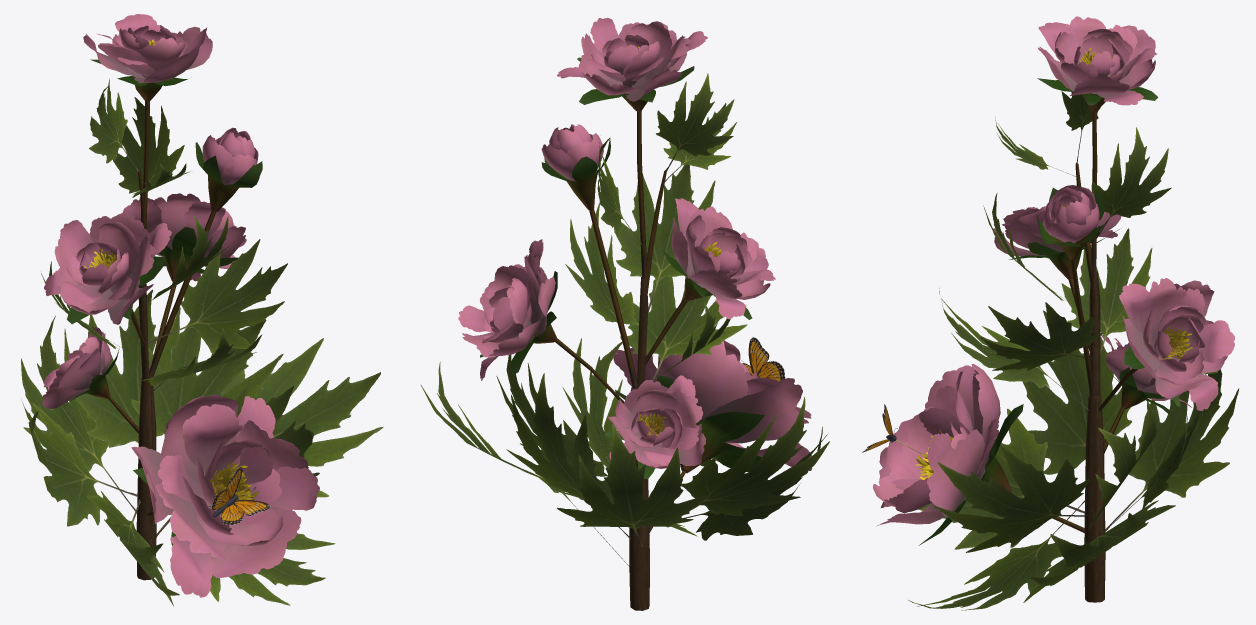
3 views of the same model, side by side, from view 1: azimuth 30°, elevation 25°; view 2: azimuth 150°, elevation 25°; view 3: azimuth 270°, elevation 25° (orthographic). The views are drawn at different scales.
Visible parts, largest first — view 1: 77eee057; view 2: 77eee057; view 3: 77eee057.
Part boxes in pixels (box(x1,y1,x2,y2)): 77eee057: box(21, 14, 383, 606); 77eee057: box(420, 17, 829, 610); 77eee057: box(862, 16, 1239, 610).
Size of the model in its own units: 0.2344 by 0.3465 by 0.2095.
2 materials, 2 textured.
